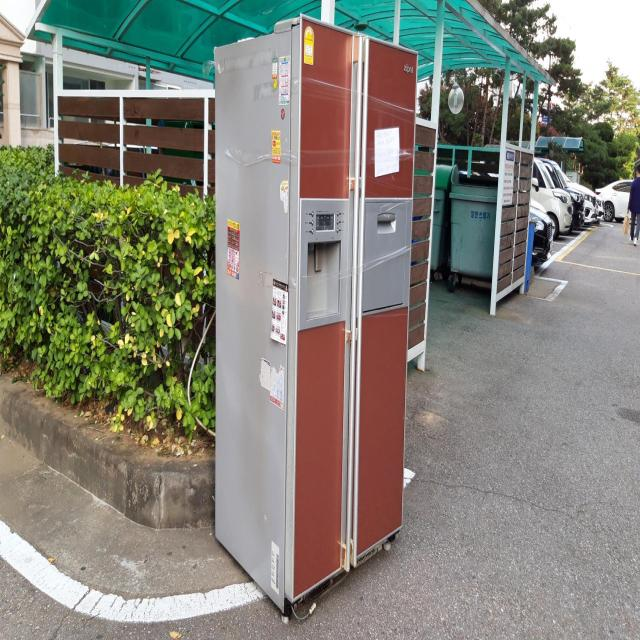refrigerator: (212, 18, 420, 616)
